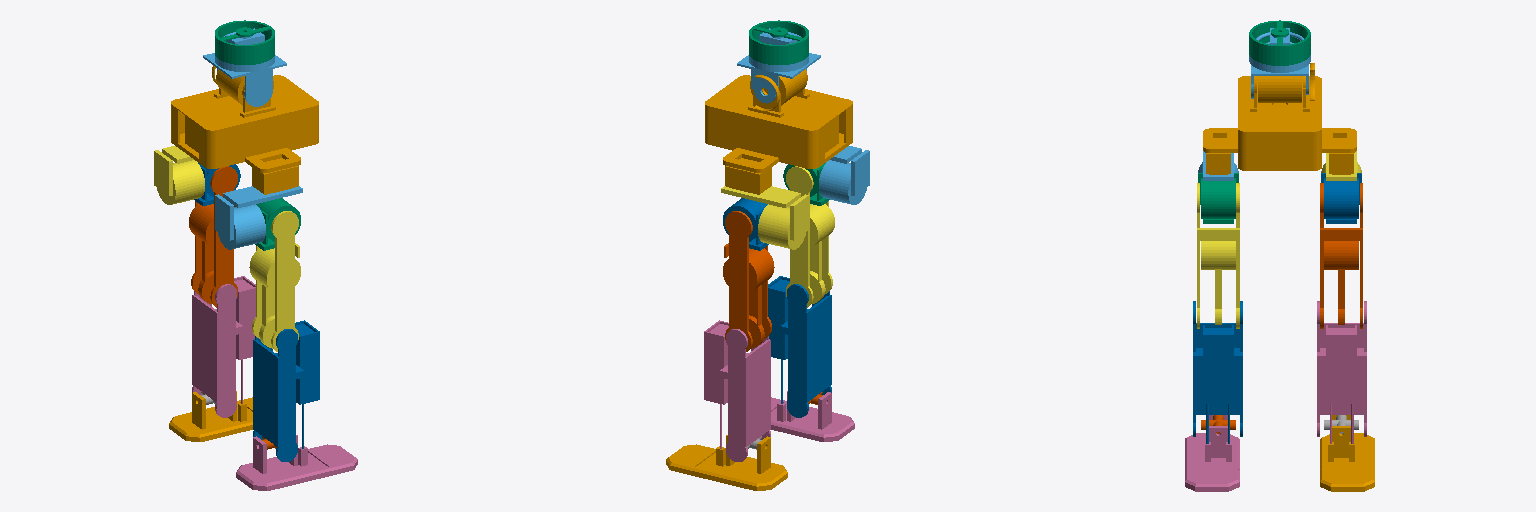
robot.urdf — cocomi_legs_v1:
<?xml version="1.0"?>
<!-- cocomi full body: torso-v1.3-low-nobatt + arms (lumped) + pelvis-v1.2 + legs-v1.1 + waist pitch (legs-v1.2) + aluminium-pipe spine (legs-v1.3) + electronics tray / pelvis IMU (legs-v1.4) + chest IMU (v1.5) + compact waist (v1.6) + joint order swapped pelvis→PITCH→YAW→torso, yaw plane 32 mm above pitch axis (legs-v1.7), root=pelvis. PLACEHOLDER dims/masses, dummy inertia. -->
<robot name="cocomi_legs_v1">
  <link name="pelvis_link"><inertial><origin xyz="-0.0001 0.0005 -0.0245"/><mass value="1.3468"/><inertia ixx="1e-4" iyy="1e-4" izz="1e-4" ixy="0" ixz="0" iyz="0"/></inertial>
    <visual><origin xyz="0.0000 0.0000 0.0530"/><geometry><mesh filename="../pelvis-v1/pelvis_block.stl" scale="0.001 0.001 0.001"/></geometry></visual>
    <visual><origin xyz="0.0000 0.0000 0.0530"/><geometry><mesh filename="../pelvis-v1/pelvis_battery_pack.stl" scale="0.001 0.001 0.001"/></geometry></visual>
    <visual><origin xyz="0.0000 0.0000 0.0530"/><geometry><mesh filename="../pelvis-v1/pelvis_battery_strap.stl" scale="0.001 0.001 0.001"/></geometry></visual>
    <visual><origin xyz="0.0000 0.0000 0.0530"/><geometry><mesh filename="../pelvis-v1/hip_yaw_servo_L.stl" scale="0.001 0.001 0.001"/></geometry></visual>
    <visual><origin xyz="0.0000 0.0000 0.0530"/><geometry><mesh filename="../pelvis-v1/hip_yaw_mount_L.stl" scale="0.001 0.001 0.001"/></geometry></visual>
    <visual><origin xyz="0.0000 0.0000 0.0530"/><geometry><mesh filename="../pelvis-v1/hip_yaw_servo_R.stl" scale="0.001 0.001 0.001"/></geometry></visual>
    <visual><origin xyz="0.0000 0.0000 0.0530"/><geometry><mesh filename="../pelvis-v1/hip_yaw_mount_R.stl" scale="0.001 0.001 0.001"/></geometry></visual>
    <visual><origin xyz="0.0000 0.0000 0.0530"/><geometry><mesh filename="waist_pitch_bracket.stl" scale="0.001 0.001 0.001"/></geometry></visual>
    <visual><origin xyz="0.0000 0.0000 0.0530"/><geometry><mesh filename="waist_pitch_act.stl" scale="0.001 0.001 0.001"/></geometry></visual>
    <visual><origin xyz="0.0000 0.0000 0.0530"/><geometry><mesh filename="waist_pitch_cable_loop.stl" scale="0.001 0.001 0.001"/></geometry></visual>
  </link>
  <link name="waist_link"><inertial><origin xyz="-0.0006 -0.0002 0.0352"/><mass value="0.2398"/><inertia ixx="1e-4" iyy="1e-4" izz="1e-4" ixy="0" ixz="0" iyz="0"/></inertial>
    <visual><origin xyz="0.0000 0.0000 0.0290"/><geometry><mesh filename="waist_pitch_carrier.stl" scale="0.001 0.001 0.001"/></geometry></visual>
    <visual><origin xyz="0.0000 0.0000 0.0290"/><geometry><mesh filename="waist_yaw_bearing.stl" scale="0.001 0.001 0.001"/></geometry></visual>
    <visual><origin xyz="0.0000 0.0000 0.0290"/><geometry><mesh filename="waist_yaw_servo.stl" scale="0.001 0.001 0.001"/></geometry></visual>
    <visual><origin xyz="0.0000 0.0000 0.0290"/><geometry><mesh filename="waist_yaw_cable_loop.stl" scale="0.001 0.001 0.001"/></geometry></visual>
  </link>
  <link name="torso_link"><inertial><origin xyz="0.0083 -0.0002 0.1657"/><mass value="2.7662"/><inertia ixx="1e-4" iyy="1e-4" izz="1e-4" ixy="0" ixz="0" iyz="0"/></inertial>
    <visual><origin xyz="0.0000 0.0000 -0.0030"/><geometry><mesh filename="waist_yaw_skirt.stl" scale="0.001 0.001 0.001"/></geometry></visual>
  </link>
  <joint name="waist_pitch" type="revolute"><parent link="pelvis_link"/><child link="waist_link"/><origin xyz="0.0000 0.0000 0.0240"/><axis xyz="0 1 0"/><limit lower="-0.26" upper="1.05" effort="24" velocity="6"/></joint>
  <joint name="waist_yaw" type="revolute"><parent link="waist_link"/><child link="torso_link"/><origin xyz="0.0000 0.0000 0.0320"/><axis xyz="0 0 1"/><limit lower="-0.79" upper="0.79" effort="2.9" velocity="6"/></joint>
  <link name="hip_yaw_link_L"><inertial><origin xyz="-0.0510 0.0000 -0.0764"/><mass value="0.2820"/><inertia ixx="1e-4" iyy="1e-4" izz="1e-4" ixy="0" ixz="0" iyz="0"/></inertial>
    <visual><origin xyz="0.0000 -0.0800 0.1160"/><geometry><mesh filename="../pelvis-v1/hip_yaw_yoke_L.stl" scale="0.001 0.001 0.001"/></geometry></visual>
    <visual><origin xyz="0.0000 -0.0800 0.1160"/><geometry><mesh filename="../pelvis-v1/hip_roll_act_L.stl" scale="0.001 0.001 0.001"/></geometry></visual>
  </link>
  <link name="hip_roll_link_L"><inertial><origin xyz="0.0513 0.0000 -0.0007"/><mass value="0.2704"/><inertia ixx="1e-4" iyy="1e-4" izz="1e-4" ixy="0" ixz="0" iyz="0"/></inertial>
    <visual><origin xyz="0.0520 -0.0800 0.1950"/><geometry><mesh filename="../pelvis-v1/hip_roll_bracket_L.stl" scale="0.001 0.001 0.001"/></geometry></visual>
    <visual><origin xyz="0.0520 -0.0800 0.1950"/><geometry><mesh filename="../pelvis-v1/hip_pitch_act_L.stl" scale="0.001 0.001 0.001"/></geometry></visual>
  </link>
  <link name="thigh_L"><inertial><origin xyz="0.0001 0.0000 -0.0810"/><mass value="0.3225"/><inertia ixx="1e-4" iyy="1e-4" izz="1e-4" ixy="0" ixz="0" iyz="0"/></inertial>
    <visual><origin xyz="0.0000 -0.0800 0.1950"/><geometry><mesh filename="thigh_L.stl" scale="0.001 0.001 0.001"/></geometry></visual>
    <visual><origin xyz="0.0000 -0.0800 0.1950"/><geometry><mesh filename="knee_act_L.stl" scale="0.001 0.001 0.001"/></geometry></visual>
    <visual><origin xyz="0.0000 -0.0800 0.1950"/><geometry><mesh filename="knee_belt_L.stl" scale="0.001 0.001 0.001"/></geometry></visual>
  </link>
  <link name="shin_L"><inertial><origin xyz="0.0257 0.0000 -0.0582"/><mass value="0.2147"/><inertia ixx="1e-4" iyy="1e-4" izz="1e-4" ixy="0" ixz="0" iyz="0"/></inertial>
    <visual><origin xyz="0.0000 -0.0800 0.3600"/><geometry><mesh filename="ankle_servo_Li.stl" scale="0.001 0.001 0.001"/></geometry></visual>
    <visual><origin xyz="0.0000 -0.0800 0.3600"/><geometry><mesh filename="ankle_servo_Lo.stl" scale="0.001 0.001 0.001"/></geometry></visual>
    <visual><origin xyz="0.0000 -0.0800 0.3600"/><geometry><mesh filename="shin_L.stl" scale="0.001 0.001 0.001"/></geometry></visual>
    <visual><origin xyz="0.0000 -0.0800 0.3600"/><geometry><mesh filename="ankle_rods_L.stl" scale="0.001 0.001 0.001"/></geometry></visual>
  </link>
  <link name="ankle_cross_L"><inertial><origin xyz="-0.0000 -0.0000 0.0000"/><mass value="0.0070"/><inertia ixx="1e-4" iyy="1e-4" izz="1e-4" ixy="0" ixz="0" iyz="0"/></inertial>
    <visual><origin xyz="0.0000 -0.0800 0.5200"/><geometry><mesh filename="ankle_cross_L.stl" scale="0.001 0.001 0.001"/></geometry></visual>
  </link>
  <link name="foot_L"><inertial><origin xyz="0.0255 0.0070 -0.0374"/><mass value="0.0851"/><inertia ixx="1e-4" iyy="1e-4" izz="1e-4" ixy="0" ixz="0" iyz="0"/></inertial>
    <visual><origin xyz="0.0000 -0.0800 0.5200"/><geometry><mesh filename="foot_L.stl" scale="0.001 0.001 0.001"/></geometry></visual>
    <visual><origin xyz="0.0000 -0.0800 0.5200"/><geometry><mesh filename="fsr_L.stl" scale="0.001 0.001 0.001"/></geometry></visual>
  </link>
  <joint name="hip_yaw_L" type="revolute"><parent link="pelvis_link"/><child link="hip_yaw_link_L"/><origin xyz="0.0000 0.0800 -0.0630"/><axis xyz="0 0 1"/><limit lower="-0.52" upper="0.52" effort="2.9" velocity="6"/></joint>
  <joint name="hip_roll_L" type="revolute"><parent link="hip_yaw_link_L"/><child link="hip_roll_link_L"/><origin xyz="-0.0520 0.0000 -0.0790"/><axis xyz="1 0 0"/><limit lower="-0.52" upper="0.52" effort="12" velocity="6"/></joint>
  <joint name="hip_pitch_L" type="revolute"><parent link="hip_roll_link_L"/><child link="thigh_L"/><origin xyz="0.0520 0.0000 0.0000"/><axis xyz="0 -1 0"/><limit lower="-0.52" upper="1.57" effort="12" velocity="6"/></joint>
  <joint name="knee_L" type="revolute"><parent link="thigh_L"/><child link="shin_L"/><origin xyz="0.0000 0.0000 -0.1650"/><axis xyz="0 1 0"/><limit lower="0" upper="2.09" effort="12" velocity="6"/></joint>
  <joint name="ankle_pitch_L" type="revolute"><parent link="shin_L"/><child link="ankle_cross_L"/><origin xyz="0.0000 0.0000 -0.1600"/><axis xyz="0 1 0"/><limit lower="-0.44" upper="0.44" effort="5" velocity="6"/></joint>
  <joint name="ankle_roll_L" type="revolute"><parent link="ankle_cross_L"/><child link="foot_L"/><origin xyz="0.0000 0.0000 0.0000"/><axis xyz="1 0 0"/><limit lower="-0.26" upper="0.26" effort="5" velocity="6"/></joint>
  <link name="hip_yaw_link_R"><inertial><origin xyz="-0.0510 0.0000 -0.0764"/><mass value="0.2820"/><inertia ixx="1e-4" iyy="1e-4" izz="1e-4" ixy="0" ixz="0" iyz="0"/></inertial>
    <visual><origin xyz="0.0000 0.0800 0.1160"/><geometry><mesh filename="../pelvis-v1/hip_yaw_yoke_R.stl" scale="0.001 0.001 0.001"/></geometry></visual>
    <visual><origin xyz="0.0000 0.0800 0.1160"/><geometry><mesh filename="../pelvis-v1/hip_roll_act_R.stl" scale="0.001 0.001 0.001"/></geometry></visual>
  </link>
  <link name="hip_roll_link_R"><inertial><origin xyz="0.0513 -0.0000 -0.0007"/><mass value="0.2704"/><inertia ixx="1e-4" iyy="1e-4" izz="1e-4" ixy="0" ixz="0" iyz="0"/></inertial>
    <visual><origin xyz="0.0520 0.0800 0.1950"/><geometry><mesh filename="../pelvis-v1/hip_roll_bracket_R.stl" scale="0.001 0.001 0.001"/></geometry></visual>
    <visual><origin xyz="0.0520 0.0800 0.1950"/><geometry><mesh filename="../pelvis-v1/hip_pitch_act_R.stl" scale="0.001 0.001 0.001"/></geometry></visual>
  </link>
  <link name="thigh_R"><inertial><origin xyz="0.0001 0.0000 -0.0810"/><mass value="0.3225"/><inertia ixx="1e-4" iyy="1e-4" izz="1e-4" ixy="0" ixz="0" iyz="0"/></inertial>
    <visual><origin xyz="0.0000 0.0800 0.1950"/><geometry><mesh filename="thigh_R.stl" scale="0.001 0.001 0.001"/></geometry></visual>
    <visual><origin xyz="0.0000 0.0800 0.1950"/><geometry><mesh filename="knee_act_R.stl" scale="0.001 0.001 0.001"/></geometry></visual>
    <visual><origin xyz="0.0000 0.0800 0.1950"/><geometry><mesh filename="knee_belt_R.stl" scale="0.001 0.001 0.001"/></geometry></visual>
  </link>
  <link name="shin_R"><inertial><origin xyz="0.0257 -0.0000 -0.0582"/><mass value="0.2147"/><inertia ixx="1e-4" iyy="1e-4" izz="1e-4" ixy="0" ixz="0" iyz="0"/></inertial>
    <visual><origin xyz="0.0000 0.0800 0.3600"/><geometry><mesh filename="ankle_servo_Ri.stl" scale="0.001 0.001 0.001"/></geometry></visual>
    <visual><origin xyz="0.0000 0.0800 0.3600"/><geometry><mesh filename="ankle_servo_Ro.stl" scale="0.001 0.001 0.001"/></geometry></visual>
    <visual><origin xyz="0.0000 0.0800 0.3600"/><geometry><mesh filename="shin_R.stl" scale="0.001 0.001 0.001"/></geometry></visual>
    <visual><origin xyz="0.0000 0.0800 0.3600"/><geometry><mesh filename="ankle_rods_R.stl" scale="0.001 0.001 0.001"/></geometry></visual>
  </link>
  <link name="ankle_cross_R"><inertial><origin xyz="-0.0000 -0.0000 0.0000"/><mass value="0.0070"/><inertia ixx="1e-4" iyy="1e-4" izz="1e-4" ixy="0" ixz="0" iyz="0"/></inertial>
    <visual><origin xyz="0.0000 0.0800 0.5200"/><geometry><mesh filename="ankle_cross_R.stl" scale="0.001 0.001 0.001"/></geometry></visual>
  </link>
  <link name="foot_R"><inertial><origin xyz="0.0255 -0.0070 -0.0374"/><mass value="0.0851"/><inertia ixx="1e-4" iyy="1e-4" izz="1e-4" ixy="0" ixz="0" iyz="0"/></inertial>
    <visual><origin xyz="0.0000 0.0800 0.5200"/><geometry><mesh filename="foot_R.stl" scale="0.001 0.001 0.001"/></geometry></visual>
    <visual><origin xyz="0.0000 0.0800 0.5200"/><geometry><mesh filename="fsr_R.stl" scale="0.001 0.001 0.001"/></geometry></visual>
  </link>
  <joint name="hip_yaw_R" type="revolute"><parent link="pelvis_link"/><child link="hip_yaw_link_R"/><origin xyz="0.0000 -0.0800 -0.0630"/><axis xyz="0 0 1"/><limit lower="-0.52" upper="0.52" effort="2.9" velocity="6"/></joint>
  <joint name="hip_roll_R" type="revolute"><parent link="hip_yaw_link_R"/><child link="hip_roll_link_R"/><origin xyz="-0.0520 0.0000 -0.0790"/><axis xyz="1 0 0"/><limit lower="-0.52" upper="0.52" effort="12" velocity="6"/></joint>
  <joint name="hip_pitch_R" type="revolute"><parent link="hip_roll_link_R"/><child link="thigh_R"/><origin xyz="0.0520 0.0000 0.0000"/><axis xyz="0 -1 0"/><limit lower="-0.52" upper="1.57" effort="12" velocity="6"/></joint>
  <joint name="knee_R" type="revolute"><parent link="thigh_R"/><child link="shin_R"/><origin xyz="0.0000 0.0000 -0.1650"/><axis xyz="0 1 0"/><limit lower="0" upper="2.09" effort="12" velocity="6"/></joint>
  <joint name="ankle_pitch_R" type="revolute"><parent link="shin_R"/><child link="ankle_cross_R"/><origin xyz="0.0000 0.0000 -0.1600"/><axis xyz="0 1 0"/><limit lower="-0.44" upper="0.44" effort="5" velocity="6"/></joint>
  <joint name="ankle_roll_R" type="revolute"><parent link="ankle_cross_R"/><child link="foot_R"/><origin xyz="0.0000 0.0000 0.0000"/><axis xyz="1 0 0"/><limit lower="-0.26" upper="0.26" effort="5" velocity="6"/></joint>
</robot>

--- What the picture shows (computed from the rendered views, not written in the file) ---
3 views of the same robot in one strip: view 1: azimuth 30°, elevation 25°; view 2: azimuth 150°, elevation 25°; view 3: azimuth 270°, elevation 25° (orthographic).
Model cocomi_legs_v1 with 15 links and 14 joints (14 revolute), rooted at pelvis_link, posed every joint at zero.
Visible links, largest first — view 1: pelvis_link, shin_R, shin_L, thigh_R, foot_R, thigh_L, hip_yaw_link_R, foot_L, hip_yaw_link_L, torso_link, waist_link, hip_roll_link_R; view 2: pelvis_link, shin_L, shin_R, thigh_L, foot_L, thigh_R, hip_yaw_link_L, foot_R, hip_yaw_link_R, torso_link, waist_link, hip_roll_link_L; view 3: pelvis_link, shin_L, shin_R, foot_L, foot_R, thigh_L, thigh_R, torso_link, hip_roll_link_L, hip_roll_link_R, waist_link.
Link boxes in pixels (x1,y1,x2,y2): pelvis_link: [171, 65, 318, 194]; shin_R: [253, 320, 319, 461]; shin_L: [192, 276, 255, 417]; thigh_R: [249, 211, 300, 351]; foot_R: [236, 435, 357, 490]; thigh_L: [189, 166, 237, 307]; hip_yaw_link_R: [215, 186, 302, 249]; foot_L: [169, 391, 252, 441]; hip_yaw_link_L: [154, 146, 204, 204]; torso_link: [215, 20, 274, 64]; waist_link: [203, 28, 286, 106]; hip_roll_link_R: [255, 198, 300, 250]; pelvis_link: [705, 69, 852, 194]; shin_L: [704, 320, 770, 461]; shin_R: [768, 276, 831, 417]; thigh_L: [723, 211, 774, 351]; foot_L: [666, 435, 787, 490]; thigh_R: [786, 166, 834, 307]; hip_yaw_link_L: [721, 186, 808, 249]; foot_R: [771, 391, 854, 441]; hip_yaw_link_R: [819, 146, 869, 204]; torso_link: [749, 20, 808, 64]; waist_link: [737, 28, 820, 103]; hip_roll_link_L: [723, 198, 768, 250]; pelvis_link: [1203, 63, 1356, 174]; shin_L: [1317, 301, 1366, 443]; shin_R: [1193, 301, 1242, 443]; foot_L: [1320, 415, 1374, 491]; foot_R: [1185, 415, 1239, 491]; thigh_L: [1320, 183, 1362, 328]; thigh_R: [1197, 183, 1239, 328]; torso_link: [1249, 20, 1310, 65]; hip_roll_link_L: [1321, 173, 1361, 223]; hip_roll_link_R: [1198, 173, 1238, 223]; waist_link: [1249, 28, 1310, 98].
Bounding box of the posed robot: 0.194 × 0.248 × 0.609 m (x, y, z).
43 mesh visuals loaded from 43 distinct referenced files (43 binary STL).
